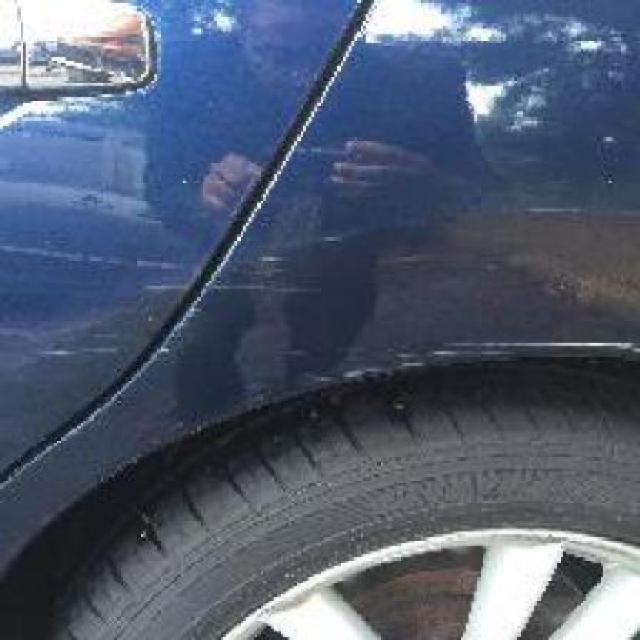dent-or-scratch: (76, 236, 381, 301), (297, 336, 637, 369)
